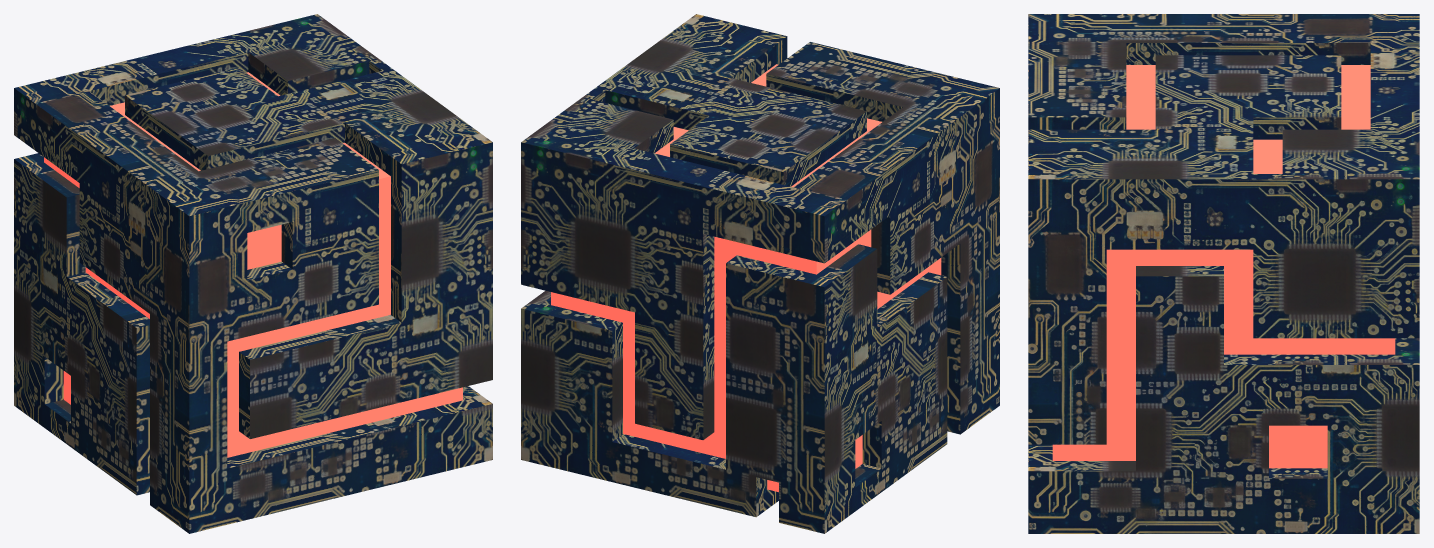
3 renders of one model, left to right at view 1: azimuth 30°, elevation 25°; view 2: azimuth 150°, elevation 25°; view 3: azimuth 270°, elevation 25°, orthographic. The views are drawn at different scales.
Visible parts, largest first — view 1: main, light; view 2: main, light; view 3: main, light.
Boxes of the visible parts, x1,y1,x2,y2 form: main: (14, 14, 492, 533); light: (44, 72, 462, 457); main: (521, 14, 999, 533); light: (551, 64, 941, 492); main: (1028, 14, 1419, 533); light: (1052, 65, 1395, 468).
Size of the model in its own units: 2 by 2 by 2.
Materials: 2 (1 with a texture image).
